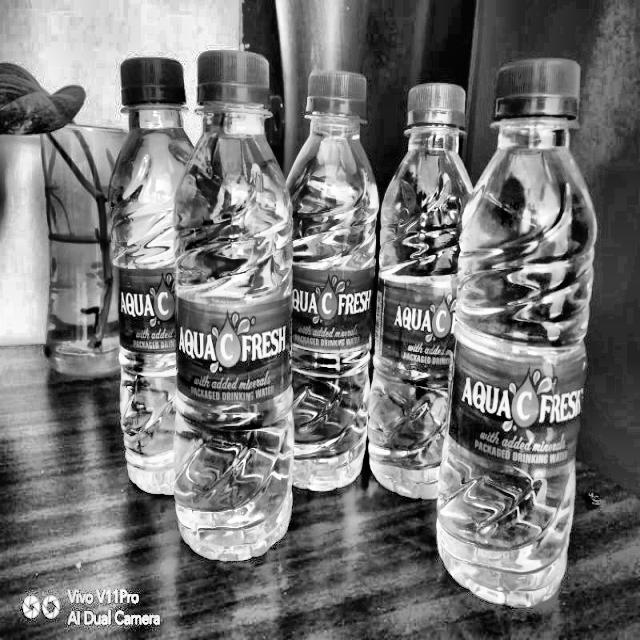waterbottle: (426, 48, 603, 624), (164, 36, 304, 570), (104, 46, 238, 500), (357, 70, 495, 507), (268, 62, 386, 507)
